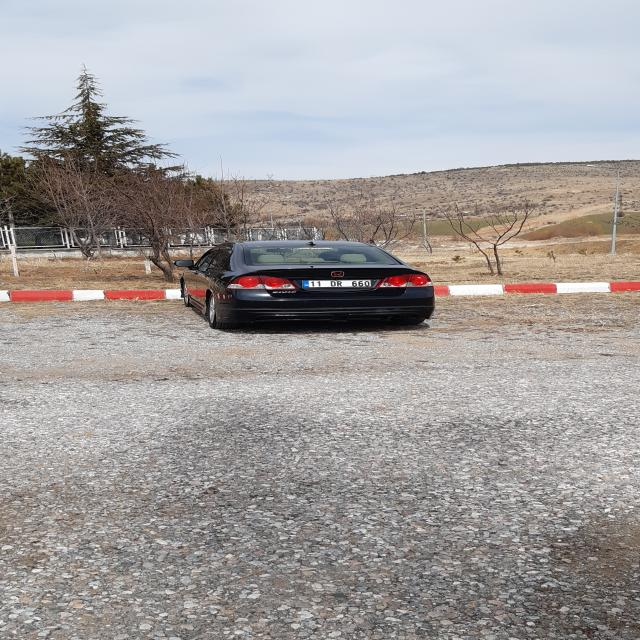license_plate: (302, 280, 371, 287)
